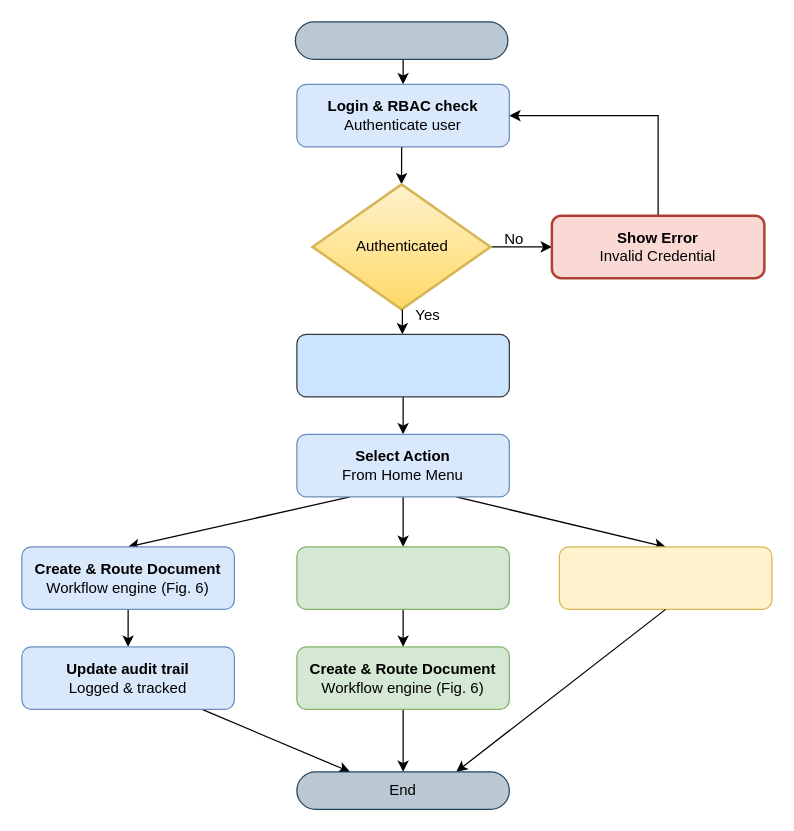
Image size: 794x831. Some labels were removed from this diagram. Each missing label, with the centre of its shape:
Access Home Role-Specific View: point 402,365
Scan QR QR Module (Fig. 7): point 402,577
Start: point 401,40
View dashboard / reports Live Status & Logs: point 665,577
